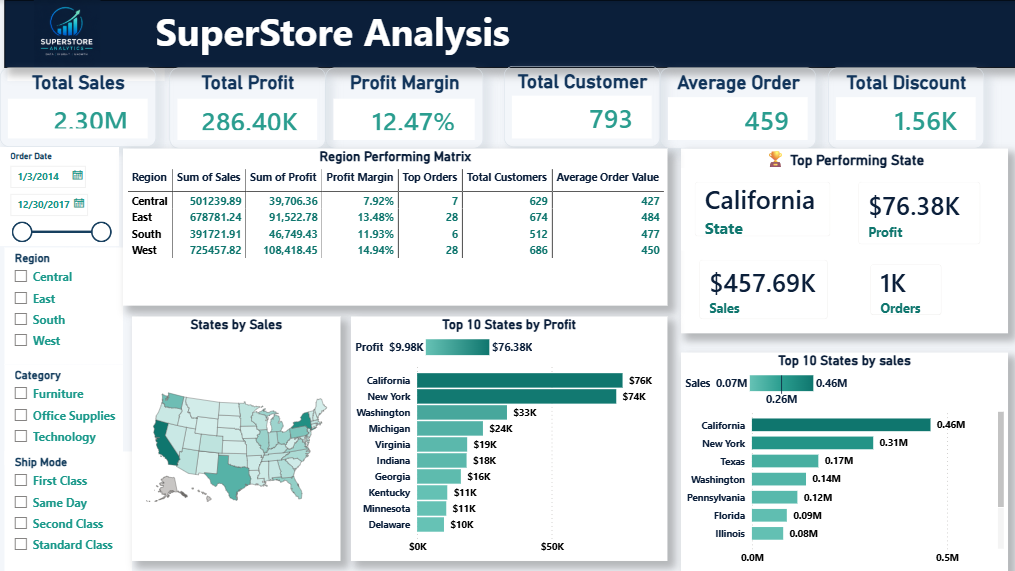

This screenshot's page, from the dashboard's own definition file:
{"tool":"powerbi","page":{"name":"Regional Performance","canvas":[1280,720],"ordinal":3},"visuals":[{"type":"textbox","box":[10,0,198,102],"z":0},{"type":"textbox","box":[6,0,1274,85],"z":1},{"type":"image","box":[36.5,0,97.2,85.1],"z":2},{"type":"cardVisual","title":"Total Sales","fields":{"Data":["Sum(Sample - Superstore.Sales)"]},"box":[0,85,196.5,100.2],"z":3},{"type":"cardVisual","title":"Total Profit","fields":{"Data":["Sum(Sample - Superstore.Profit)"]},"box":[213.5,85,196.5,102],"z":4},{"type":"cardVisual","title":"Profit Margin","fields":{"Data":["Sample - Superstore.Profit Margin"]},"box":[410.1,85,198.4,102],"z":5},{"type":"cardVisual","title":"Total  Customer ","fields":{"Data":["Sample - Superstore.Total Customers"]},"box":[635,83.2,196.5,102],"z":6},{"type":"cardVisual","title":"Total  Customer ","fields":{"Data":["Sample - Superstore.Total Customers"]},"box":[1043.2,85,196.5,102],"z":7},{"type":"cardVisual","title":"Total  Customer ","fields":{"Data":["Sample - Superstore.Total Customers"]},"box":[831.5,85,196.5,102],"z":8},{"type":"slicer","fields":{"Values":["Sample - Superstore.Order Date"]},"box":[0,185.2,149.3,124.7],"z":9},{"type":"slicer","fields":{"Values":["Sample - Superstore.Region"]},"box":[5.7,311.8,149.3,147.4],"z":10},{"type":"slicer","fields":{"Values":["Sample - Superstore.Category"]},"box":[5.7,459.2,149.3,126.6],"z":11},{"type":"slicer","fields":{"Values":["Sample - Superstore.Ship Mode"]},"box":[5.7,568.8,160.6,151.2],"z":12},{"type":"shape","title":"🏆 Top Performing State","box":[858,187.1,412,232.4],"z":13},{"type":"tableEx","title":"Region Performing Matrix","fields":{"Values":["Sample - Superstore.Region","Sum(Sample - Superstore.Sales)","Sum(Sample - Superstore.Profit)","Sample - Superstore.Profit Margin","Sample - Superstore.Top Orders","Sample - Superstore.Total Customers","Sample - Superstore.Average Order Value"]},"box":[155.8,187.4,686.3,197.9],"z":14},{"type":"cardVisual","fields":{"Data":["Sample - Superstore.Top State Orders"]},"box":[1079.1,315.6,124.7,98.3],"z":15},{"type":"cardVisual","fields":{"Data":["Sample - Superstore.Top Performing State"]},"box":[858,211.7,206,103.9],"z":16},{"type":"cardVisual","fields":{"Data":["Sample - Superstore.Top Performing State by Profit"]},"box":[1063.9,211.7,189,113.4],"z":17},{"type":"cardVisual","fields":{"Data":["Sample - Superstore.Top State Sales"]},"box":[863.6,309.9,196.5,109.6],"z":18},{"type":"shapeMap","title":"States by Sales","fields":{"Category":["Sample - Superstore.State"],"Value":["Sum(Sample - Superstore.Sales)"]},"box":[196.5,444.1,213.5,236.2],"z":19},{"type":"clusteredBarChart","title":"Top 10 States by Profit","fields":{"Category":["Sample - Superstore.State"],"Y":["Sample - Superstore.Total Profit"]},"box":[442.2,430.9,421.4,275.9],"z":20},{"type":"clusteredBarChart","title":"Top 10 States by sales","fields":{"Category":["Sample - Superstore.State"],"Y":["Sum(Sample - Superstore.Sales)"]},"box":[893.9,444.1,376.1,275.9],"z":21}]}

Visuals, with their boxes in screenshot pixels (x1, y1, x2, y2), scaled from the page's 1280x720 canvas onto the 1015x571 screenshot:
textbox: crop(8, 0, 165, 81)
textbox: crop(5, 0, 1014, 67)
image: crop(29, 0, 106, 67)
"Total Sales" cardVisual: crop(0, 67, 156, 147)
"Total Profit" cardVisual: crop(169, 67, 325, 148)
"Profit Margin" cardVisual: crop(325, 67, 483, 148)
"Total  Customer " cardVisual: crop(504, 66, 659, 147)
"Total  Customer " cardVisual: crop(827, 67, 983, 148)
"Total  Customer " cardVisual: crop(659, 67, 815, 148)
slicer - Sample - Superstore.Order Date: crop(0, 147, 118, 246)
slicer - Sample - Superstore.Region: crop(5, 247, 123, 364)
slicer - Sample - Superstore.Category: crop(5, 364, 123, 465)
slicer - Sample - Superstore.Ship Mode: crop(5, 451, 132, 570)
"🏆 Top Performing State" shape: crop(680, 148, 1007, 333)
"Region Performing Matrix" tableEx: crop(124, 149, 668, 306)
cardVisual - Sample - Superstore.Top State Orders: crop(856, 250, 955, 328)
cardVisual - Sample - Superstore.Top Performing State: crop(680, 168, 844, 250)
cardVisual - Sample - Superstore.Top Performing State by Profit: crop(844, 168, 994, 258)
cardVisual - Sample - Superstore.Top State Sales: crop(685, 246, 841, 333)
"States by Sales" shapeMap: crop(156, 352, 325, 540)
"Top 10 States by Profit" clusteredBarChart: crop(351, 342, 685, 561)
"Top 10 States by sales" clusteredBarChart: crop(709, 352, 1007, 570)
